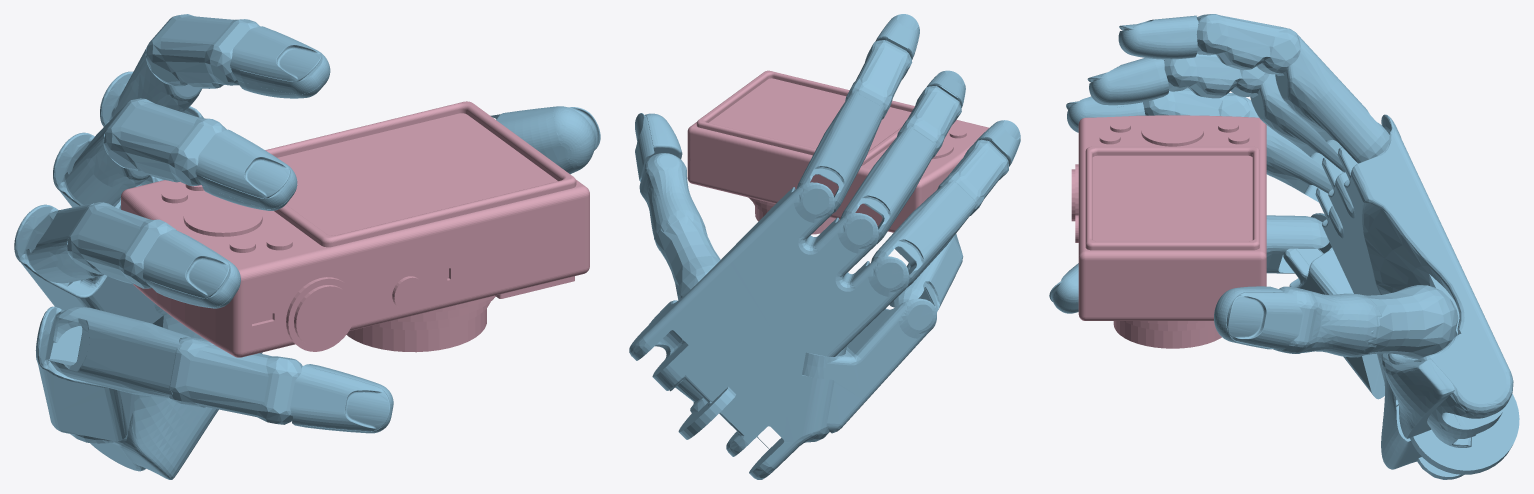
3 renders of one model, left to right at view 1: azimuth 30°, elevation 25°; view 2: azimuth 150°, elevation 25°; view 3: azimuth 270°, elevation 25°, orthographic. The views are drawn at different scales.
Visible parts, largest first — view 1: world, camera.stl; view 2: world, camera.stl; view 3: world, camera.stl.
Boxes of the visible parts, <box> form: world: <box>14,14,600,479</box>; camera.stl: <box>121,101,589,357</box>; world: <box>629,14,1020,479</box>; camera.stl: <box>687,70,989,234</box>; world: <box>1049,14,1519,479</box>; camera.stl: <box>1071,115,1266,348</box>.
Size of the model in its own units: 0.1673 by 0.1706 by 0.1618.
